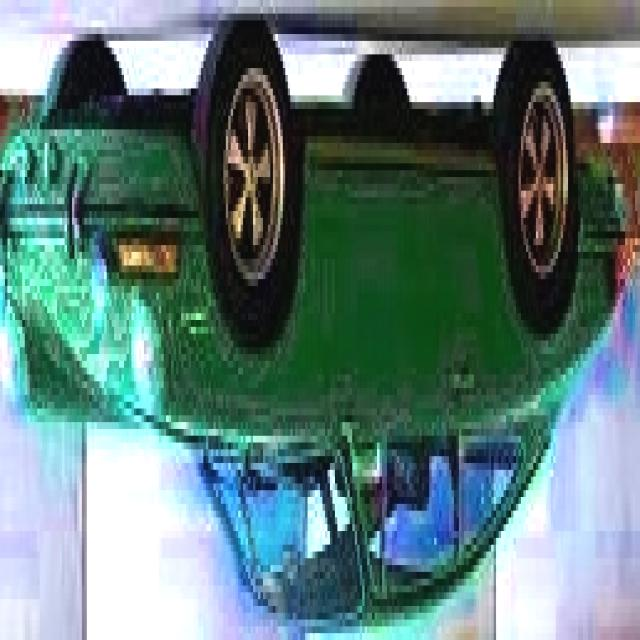green: (0, 37, 628, 630)
